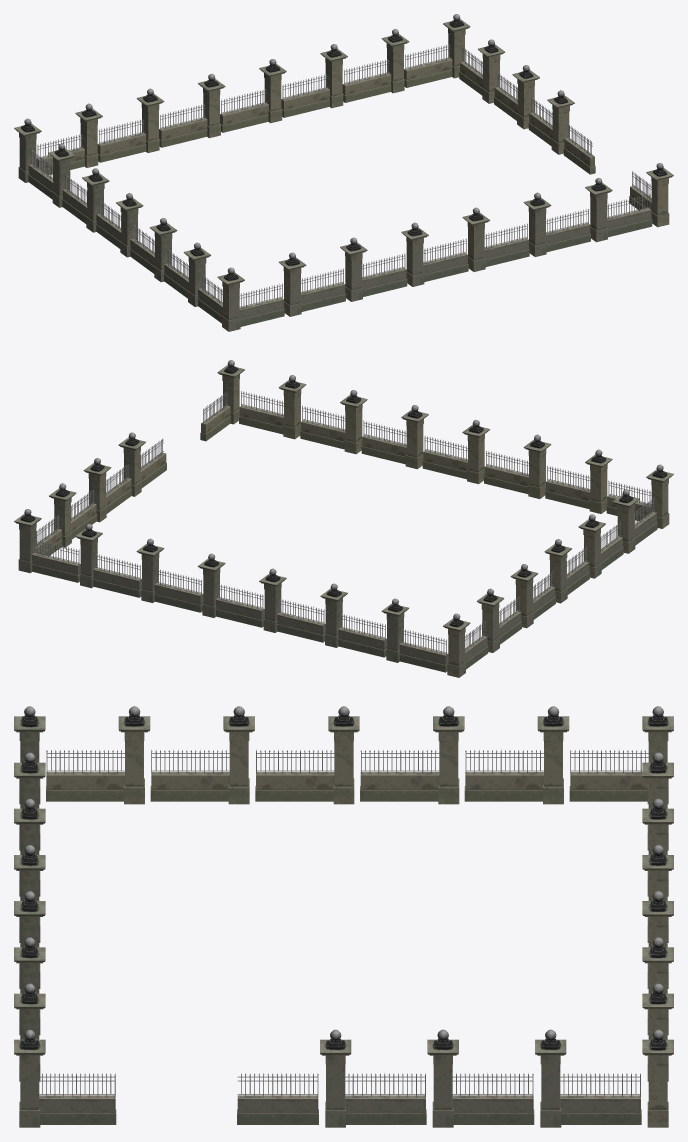
The model's file is graveyard_wall.glb.
The picture shows the model from 3 angles, top to bottom: view 1: azimuth 30°, elevation 25°; view 2: azimuth 150°, elevation 25°; view 3: azimuth 270°, elevation 25°; orthographic projection. The views are drawn at different scales.
Visible parts, largest first — view 1: wall_chunk_7, wall_chunk_2, wall_chunk_3, wall_chunk_6, wall_chunk_1, wall_chunk_4, wall_chunk_5, wall_chunk_0, wall_chunk_8; view 2: wall_chunk_6, wall_chunk_7, wall_chunk_3, wall_chunk_2, wall_chunk_4, wall_chunk_1, wall_chunk_5, wall_chunk_0, wall_chunk_8; view 3: wall_chunk_5, wall_chunk_4, wall_chunk_0, wall_chunk_1, wall_chunk_6, wall_chunk_2, wall_chunk_7, wall_chunk_3, wall_chunk_8.
Boxes of the visible parts, left/top/right/bottom form: wall_chunk_7: left=97, top=59, right=286, bottom=162; wall_chunk_2: left=279, top=222, right=468, bottom=316; wall_chunk_3: left=462, top=178, right=652, bottom=271; wall_chunk_6: left=281, top=14, right=470, bottom=117; wall_chunk_1: left=217, top=39, right=539, bottom=331; wall_chunk_4: left=14, top=118, right=121, bottom=248; wall_chunk_5: left=116, top=193, right=222, bottom=323; wall_chunk_0: left=528, top=90, right=673, bottom=227; wall_chunk_8: left=36, top=103, right=102, bottom=174; wall_chunk_6: left=14, top=509, right=203, bottom=612; wall_chunk_7: left=198, top=553, right=386, bottom=657; wall_chunk_3: left=239, top=375, right=428, bottom=469; wall_chunk_2: left=422, top=420, right=612, bottom=513; wall_chunk_4: left=443, top=564, right=555, bottom=677; wall_chunk_1: left=36, top=458, right=673, bottom=555; wall_chunk_5: left=544, top=489, right=657, bottom=603; wall_chunk_0: left=106, top=360, right=244, bottom=513; wall_chunk_8: left=381, top=598, right=448, bottom=672; wall_chunk_5: left=46, top=706, right=359, bottom=804; wall_chunk_4: left=360, top=706, right=673, bottom=804; wall_chunk_0: left=14, top=1029, right=426, bottom=1127; wall_chunk_1: left=14, top=706, right=641, bottom=1127; wall_chunk_6: left=642, top=937, right=673, bottom=1127; wall_chunk_2: left=14, top=752, right=45, bottom=942; wall_chunk_7: left=642, top=798, right=673, bottom=988; wall_chunk_3: left=14, top=891, right=45, bottom=1081; wall_chunk_8: left=642, top=752, right=673, bottom=850.
Size of the model in its own units: 29.15 by 3.76 by 24.15.
2 materials, 2 textured.
